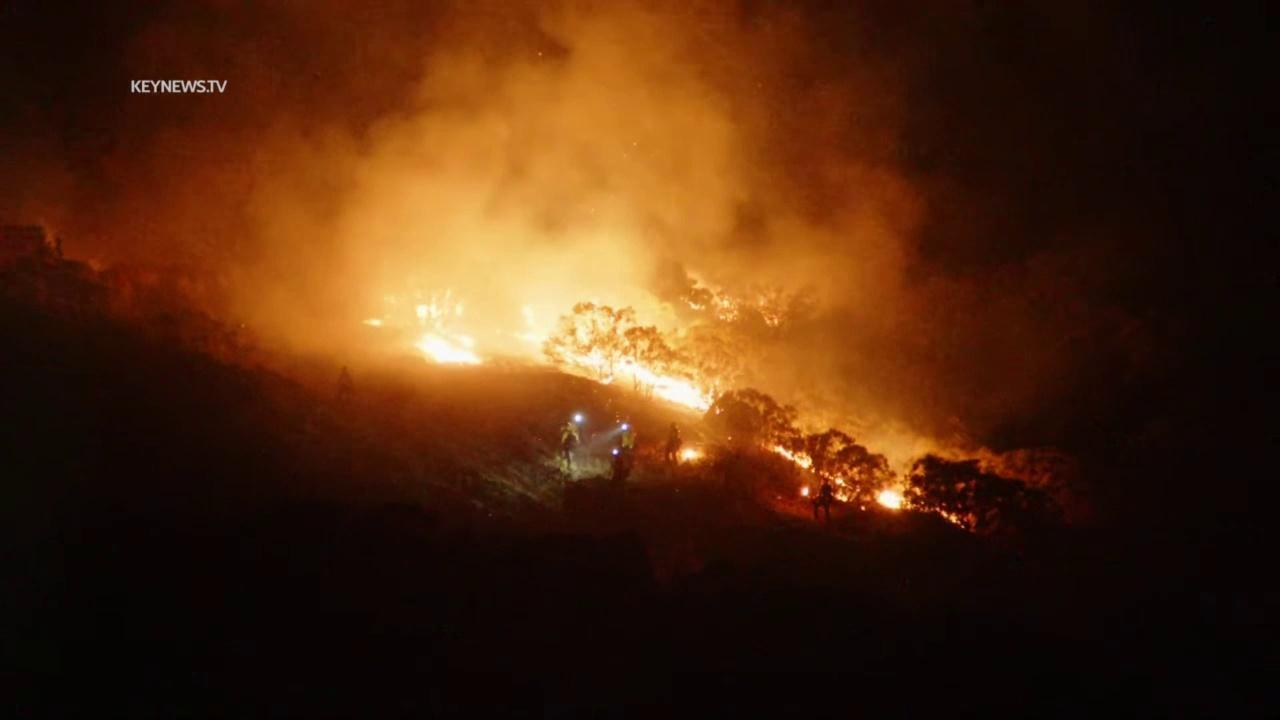fire: (520, 290, 725, 415), (406, 287, 483, 365), (906, 486, 977, 533), (689, 291, 739, 324), (772, 442, 816, 474), (819, 470, 855, 503), (876, 485, 907, 512), (362, 316, 384, 329), (682, 448, 698, 462), (799, 485, 810, 497), (858, 505, 868, 513)
smoke: (146, 5, 1162, 485)
